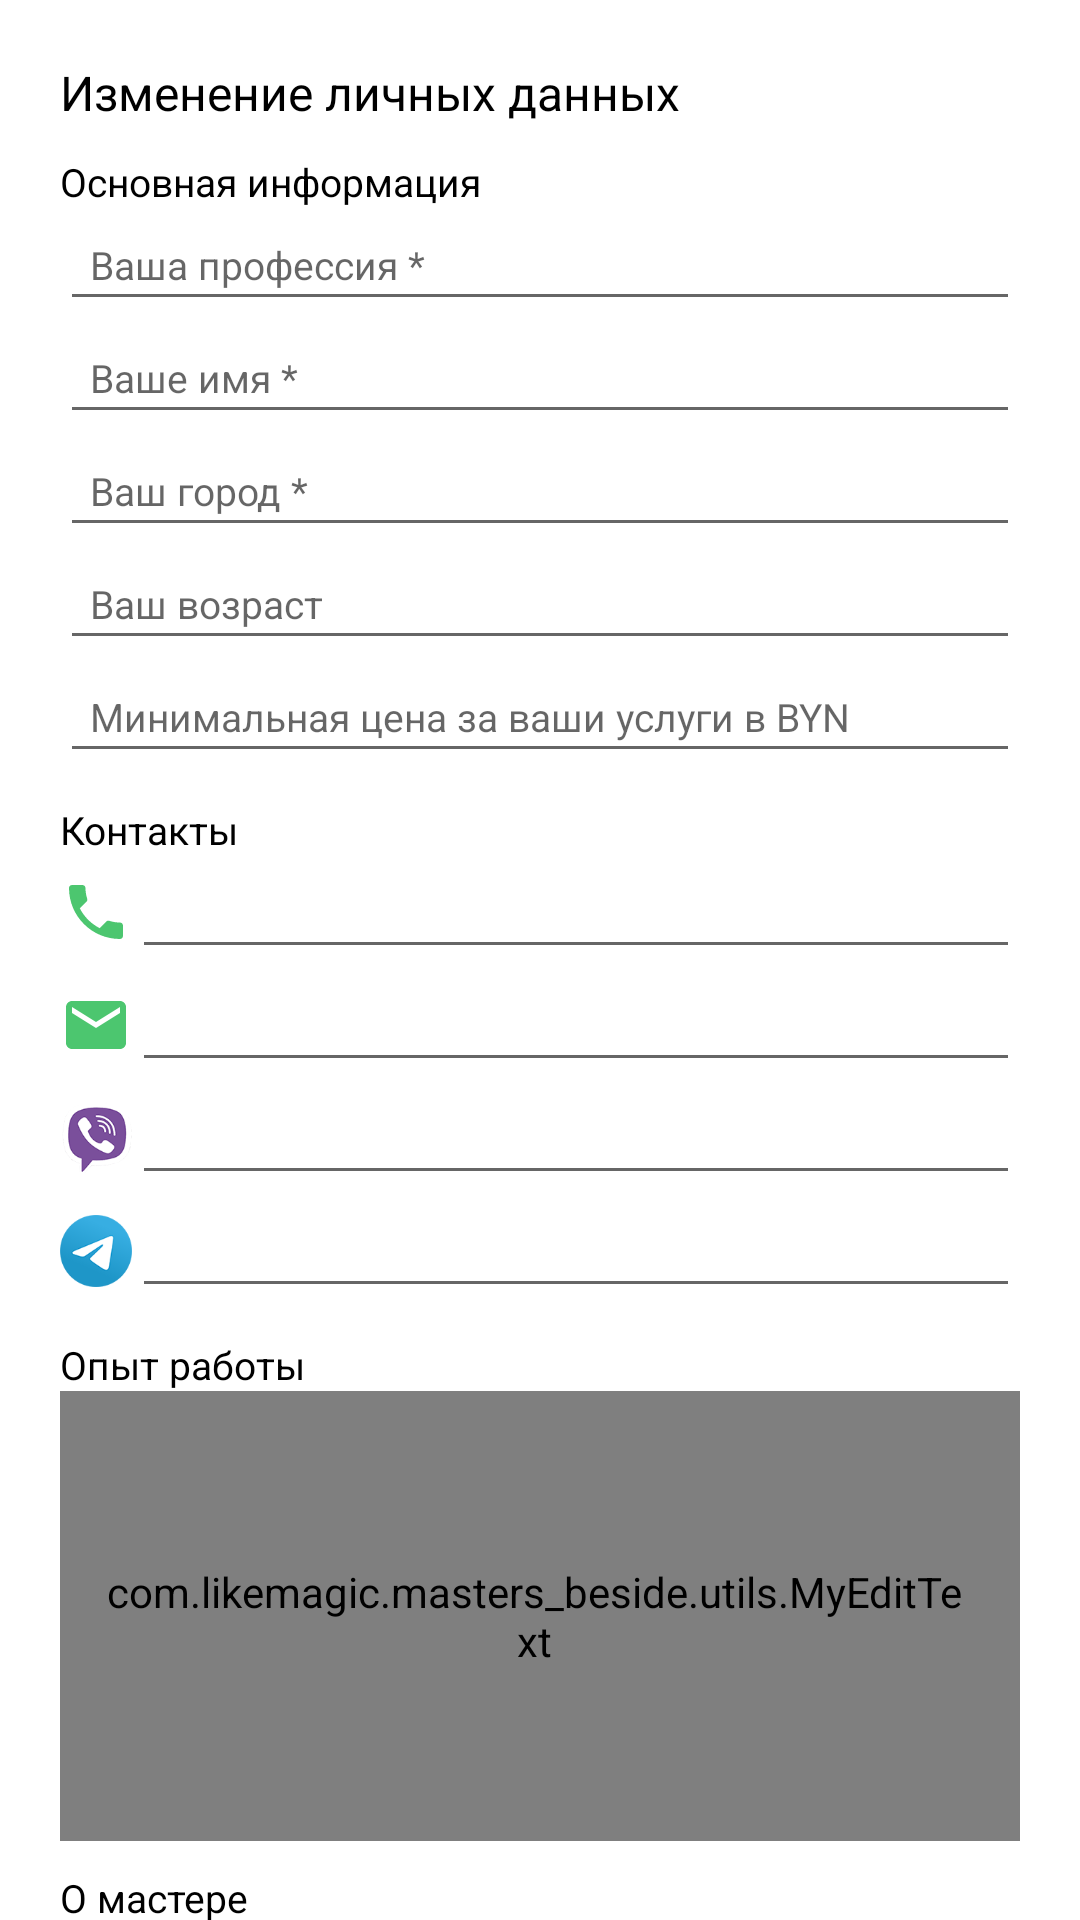

Point at icon controls on the screen. Image size 1080 x 1920, points as (x=x, y=y).
mail: (x=96, y=1025)
phone: (x=96, y=912)
